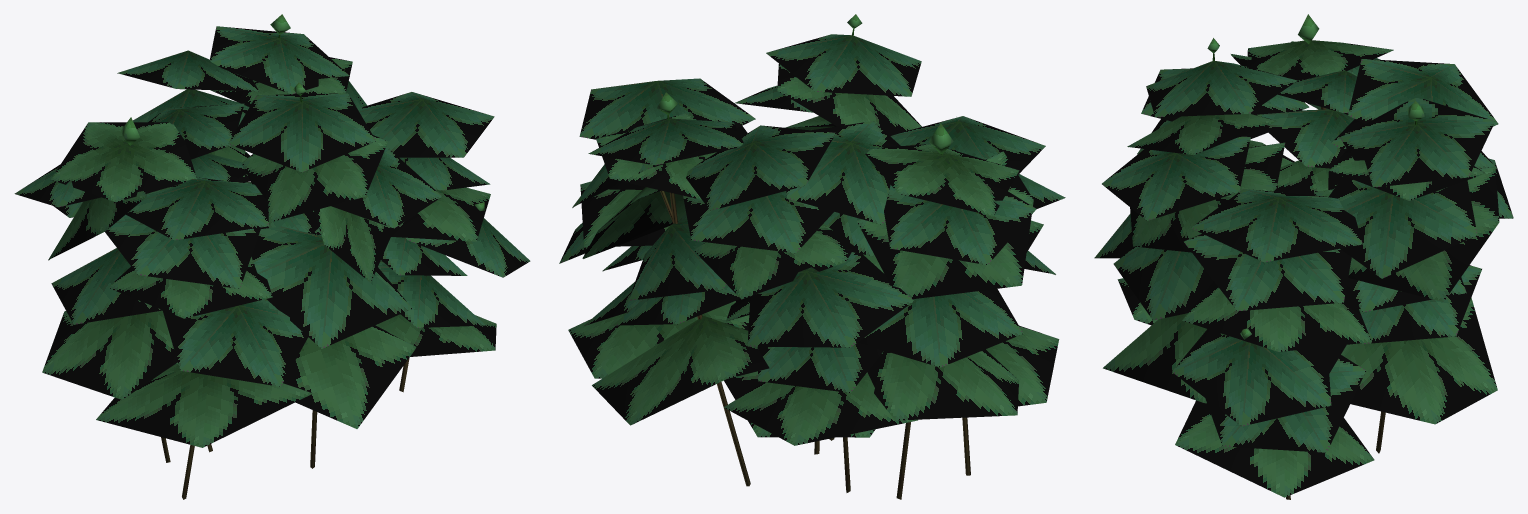
Rendered from plants_shrub03.gltf.
The picture shows the model from 3 angles, left to right: view 1: azimuth 30°, elevation 25°; view 2: azimuth 150°, elevation 25°; view 3: azimuth 270°, elevation 25°; orthographic projection. The views are drawn at different scales.
Parts seen in each view (by area): view 1: plants_shrub03; view 2: plants_shrub03; view 3: plants_shrub03.
Boxes of the visible parts, x1,y1,x2,y2 form: plants_shrub03: (14,14,530,499); plants_shrub03: (559,14,1065,499); plants_shrub03: (1094,14,1513,499).
Size of the model in its own units: 1.3 by 1.09 by 0.9973.
1 material, 1 textured.
